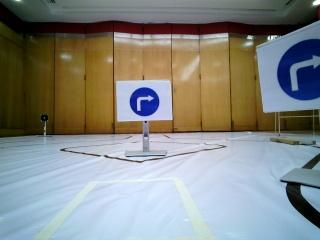right: (242, 36, 320, 116), (114, 79, 172, 122)
